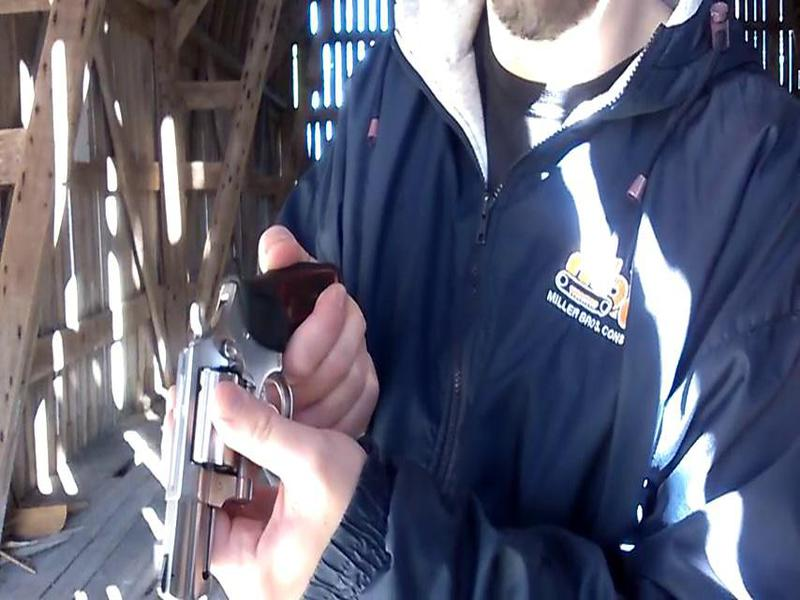Revolver: (147, 259, 352, 600)
